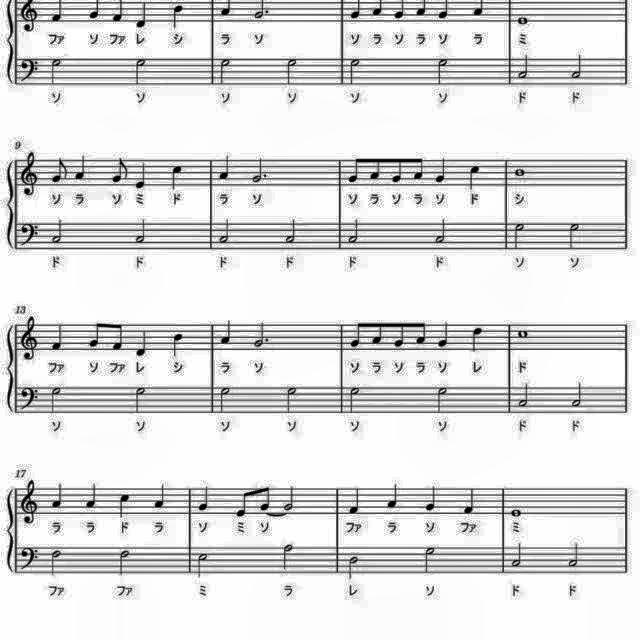Bass-clef: (17, 54, 41, 86), (18, 543, 42, 573), (18, 383, 42, 412), (20, 220, 42, 250)
Eighth-note: (109, 154, 131, 186), (50, 154, 70, 186), (234, 486, 252, 520), (345, 151, 363, 185), (388, 154, 406, 186), (87, 320, 105, 352), (390, 318, 406, 352), (110, 321, 126, 355), (348, 320, 364, 352), (258, 482, 274, 512), (366, 154, 382, 184), (368, 318, 384, 348), (411, 154, 427, 183), (414, 320, 430, 348)
Full-note: (516, 326, 532, 342), (511, 166, 529, 180), (516, 12, 532, 26), (510, 507, 526, 521)
Half-dot: (250, 318, 270, 350), (252, 153, 272, 184)
Half-note: (132, 56, 152, 88), (430, 214, 450, 246), (564, 219, 584, 251), (510, 220, 530, 252), (566, 50, 586, 82), (509, 540, 528, 572), (132, 217, 152, 247), (47, 54, 65, 86), (421, 544, 439, 576), (216, 54, 234, 86), (279, 542, 297, 574), (282, 56, 300, 88), (118, 547, 136, 579), (47, 383, 65, 415), (46, 546, 64, 578), (435, 54, 453, 86), (435, 385, 453, 417), (568, 380, 586, 412), (282, 382, 300, 413), (215, 384, 232, 416), (216, 217, 234, 247), (565, 540, 583, 570), (516, 379, 534, 409), (132, 384, 150, 414), (516, 52, 534, 82), (345, 552, 363, 582), (195, 551, 213, 581), (280, 483, 298, 513), (346, 56, 364, 86), (281, 215, 299, 245), (49, 217, 66, 247), (346, 218, 364, 246), (346, 382, 362, 412)
Quarter-note: (421, 481, 439, 513), (133, 326, 151, 358), (433, 154, 451, 186), (196, 482, 214, 514), (345, 484, 363, 516), (50, 322, 68, 354), (464, 484, 481, 516), (71, 153, 89, 183), (168, 161, 186, 191), (471, 326, 489, 356), (465, 161, 483, 191), (436, 321, 454, 351), (153, 481, 170, 512), (134, 160, 150, 192), (215, 153, 232, 183), (218, 319, 235, 349), (170, 2, 187, 32), (384, 481, 401, 511), (170, 329, 187, 358), (116, 491, 132, 521), (48, 480, 64, 510), (136, 1, 152, 31), (84, 481, 100, 511)
Treble-clef: (18, 315, 40, 365), (18, 148, 40, 198), (18, 478, 40, 526)
